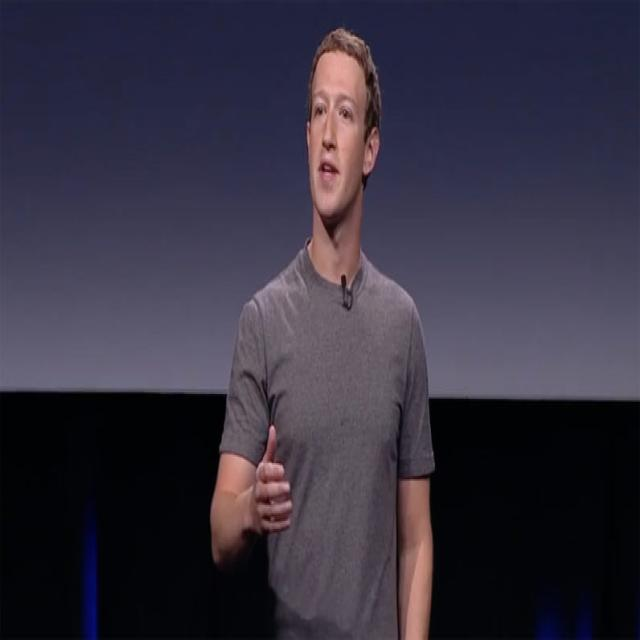human: (208, 16, 441, 640)
